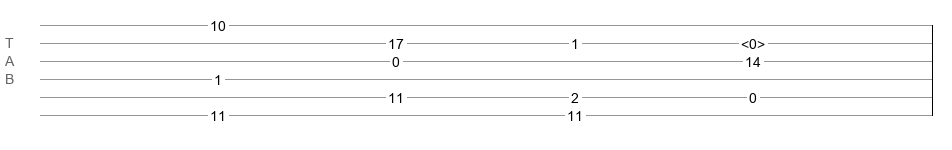0: (392, 54, 400, 64), (749, 90, 757, 100)
1: (214, 72, 222, 82), (571, 36, 579, 46)
10: (210, 18, 226, 28)
11: (210, 108, 226, 118), (388, 90, 404, 100), (567, 108, 583, 118)
14: (745, 54, 761, 64)
17: (388, 36, 404, 46)
2: (571, 90, 579, 100)
harmonic: (741, 36, 765, 46)
